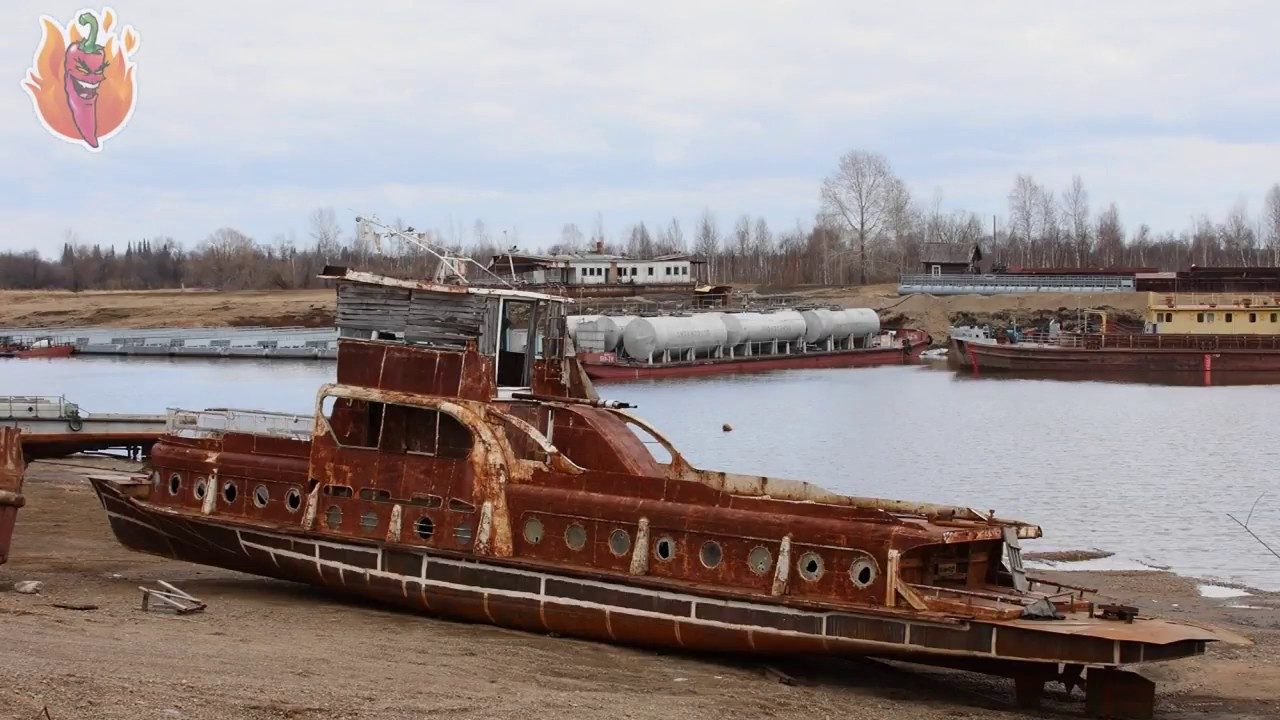rust: (149, 429, 960, 620), (331, 340, 490, 385)
